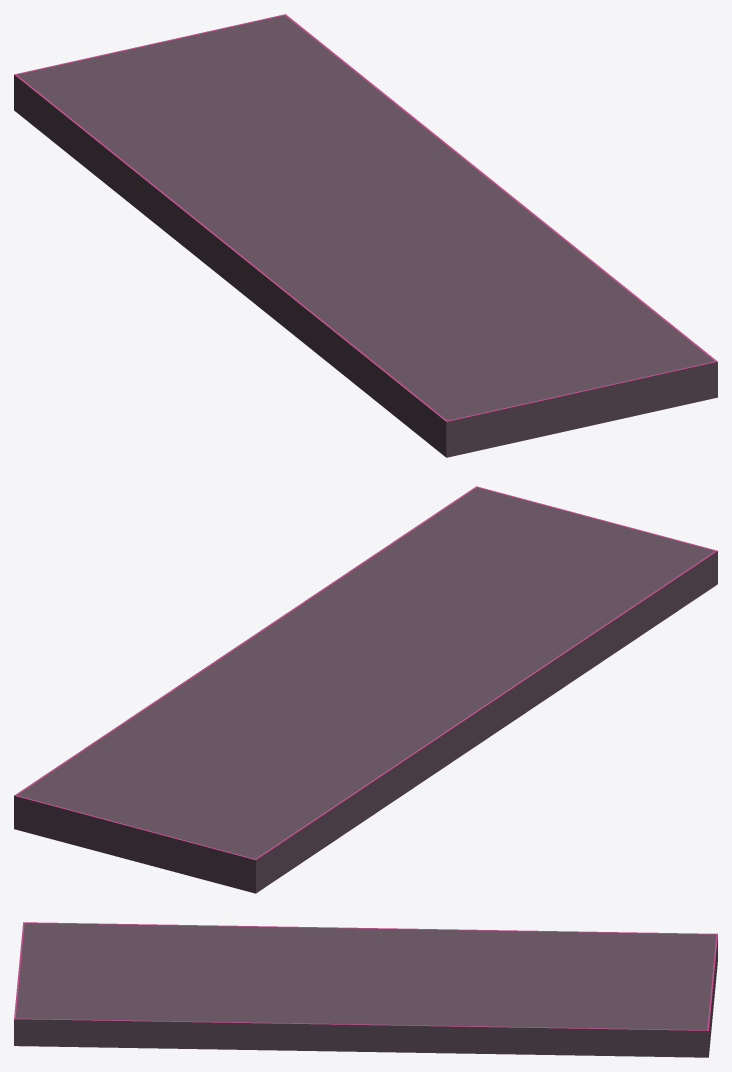
File: way-205658303.glb
3 renders of one model, top to bottom at view 1: azimuth 30°, elevation 25°; view 2: azimuth 150°, elevation 25°; view 3: azimuth 270°, elevation 25°, orthographic. The views are drawn at different scales.
Parts seen in each view (by area): view 1: way-205658303; view 2: way-205658303; view 3: way-205658303.
Boxes of the visible parts, x1=… form: way-205658303: x1=14, y1=14, x2=717, y2=457; way-205658303: x1=14, y1=486, x2=717, y2=893; way-205658303: x1=14, y1=922, x2=717, y2=1057.
Size of the model in its own units: 25.98 by 3 by 71.18.
